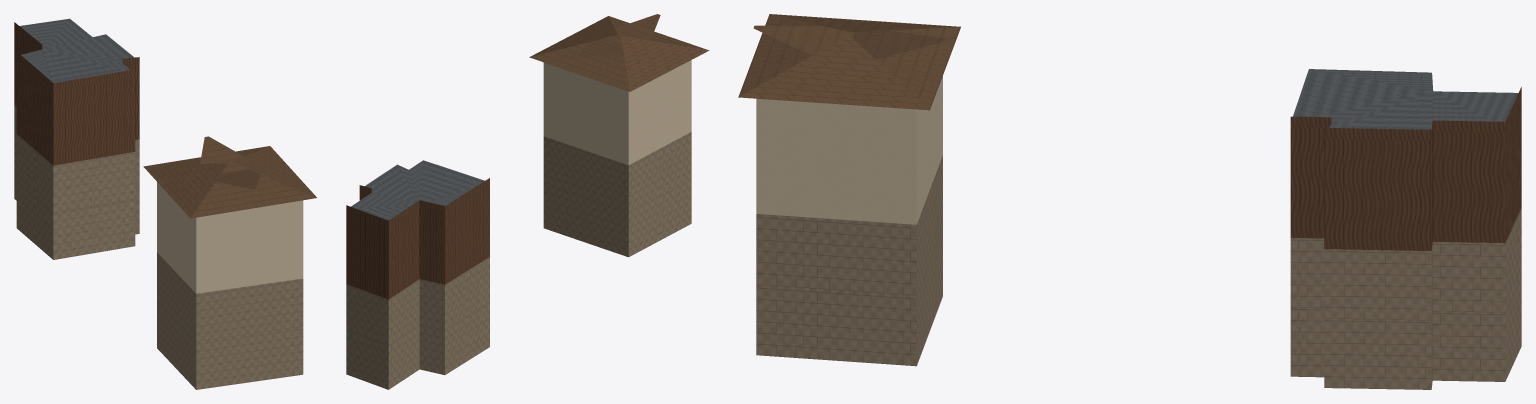
The model's file is bld_c31_-23_540.gltf.
3 views of the same model, side by side, from view 1: azimuth 30°, elevation 25°; view 2: azimuth 150°, elevation 25°; view 3: azimuth 270°, elevation 25° (orthographic). The views are drawn at different scales.
Parts seen in each view (by area): view 1: bld_c31_-23_540; view 2: bld_c31_-23_540; view 3: bld_c31_-23_540.
Boxes of the visible parts, x1=… form: bld_c31_-23_540: x1=14, y1=18, x2=316, y2=389; bld_c31_-23_540: x1=346, y1=14, x2=709, y2=389; bld_c31_-23_540: x1=738, y1=14, x2=1521, y2=389.
Bounding box in the file's own units: 7.56 × 10.6 × 24.78.
6 materials, 6 textured.
